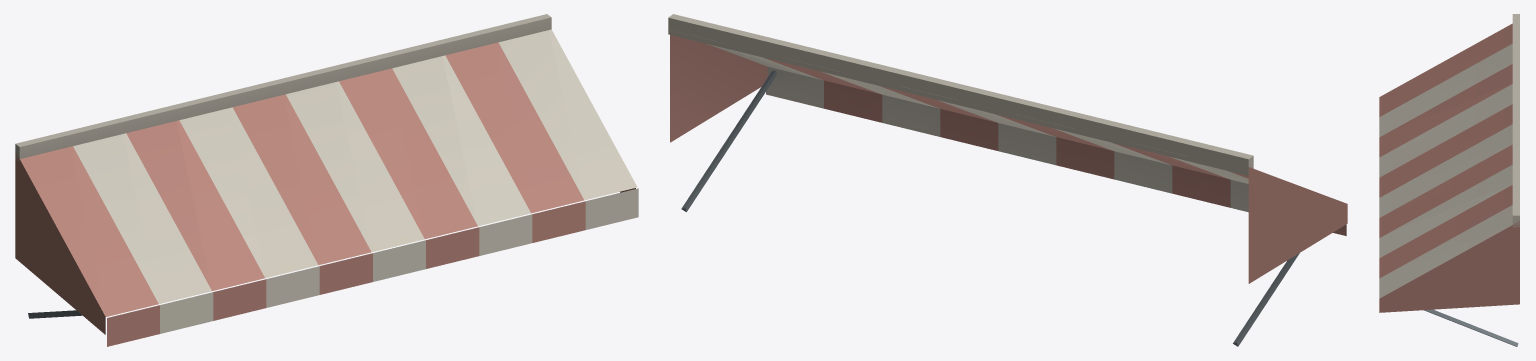
File: awning.lod1.glb
3 renders of one model, left to right at view 1: azimuth 30°, elevation 25°; view 2: azimuth 150°, elevation 25°; view 3: azimuth 270°, elevation 25°, orthographic. The views are drawn at different scales.
Size of the model in its own units: 4 by 1.27 by 1.21.
